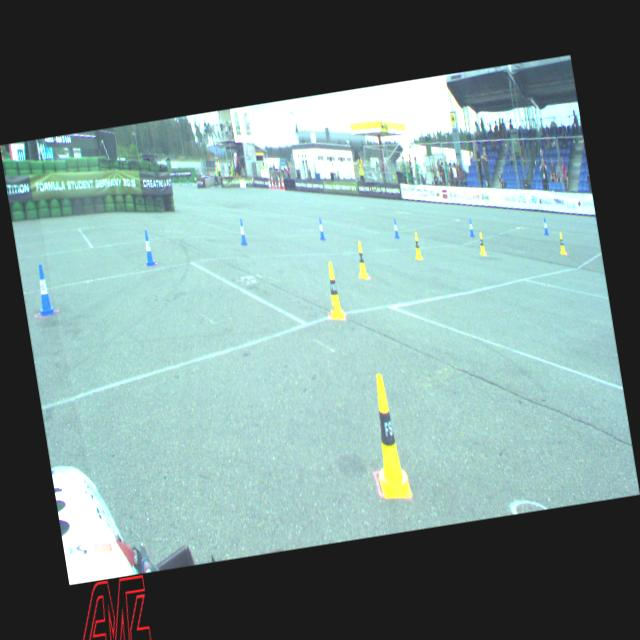blue_cone: (32, 264, 56, 316), (142, 230, 156, 266), (238, 218, 248, 246), (318, 218, 326, 240), (392, 218, 399, 238), (542, 217, 549, 236), (468, 219, 474, 237)
large_orange_cone: (278, 176, 282, 190), (270, 176, 274, 189)
orange_cone: (275, 180, 278, 190), (268, 180, 271, 189)
yellow_cone: (363, 372, 412, 500), (322, 261, 346, 320), (354, 240, 369, 280), (412, 232, 422, 261), (478, 232, 487, 256), (558, 232, 566, 255)
